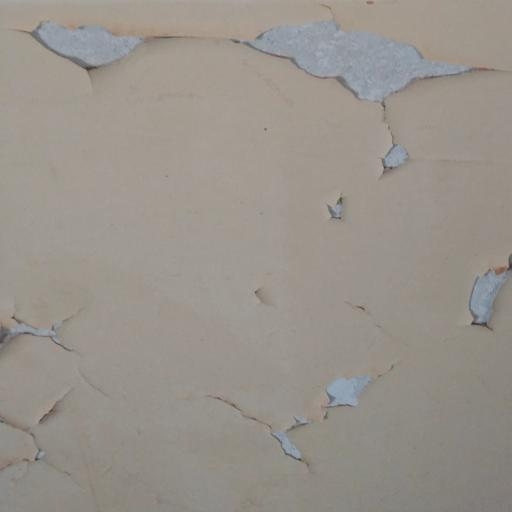peeling: (15, 4, 510, 181), (0, 274, 145, 511), (192, 350, 421, 473), (446, 242, 512, 339), (314, 187, 377, 232)
